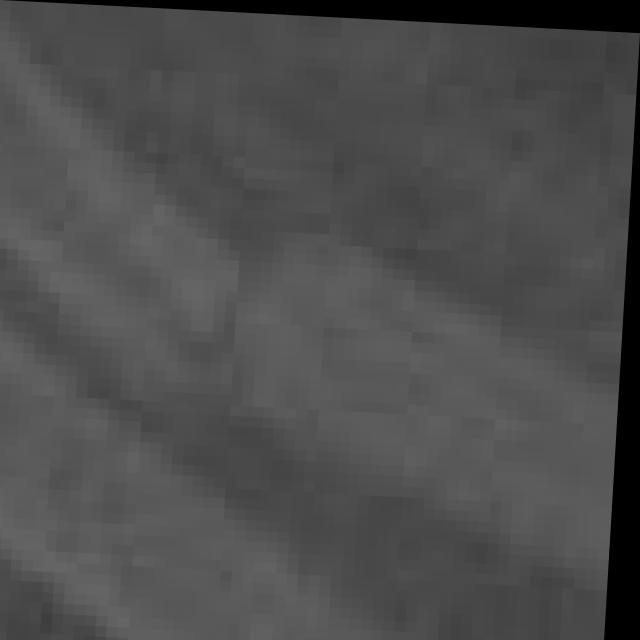fracture: (0, 14, 629, 640)
